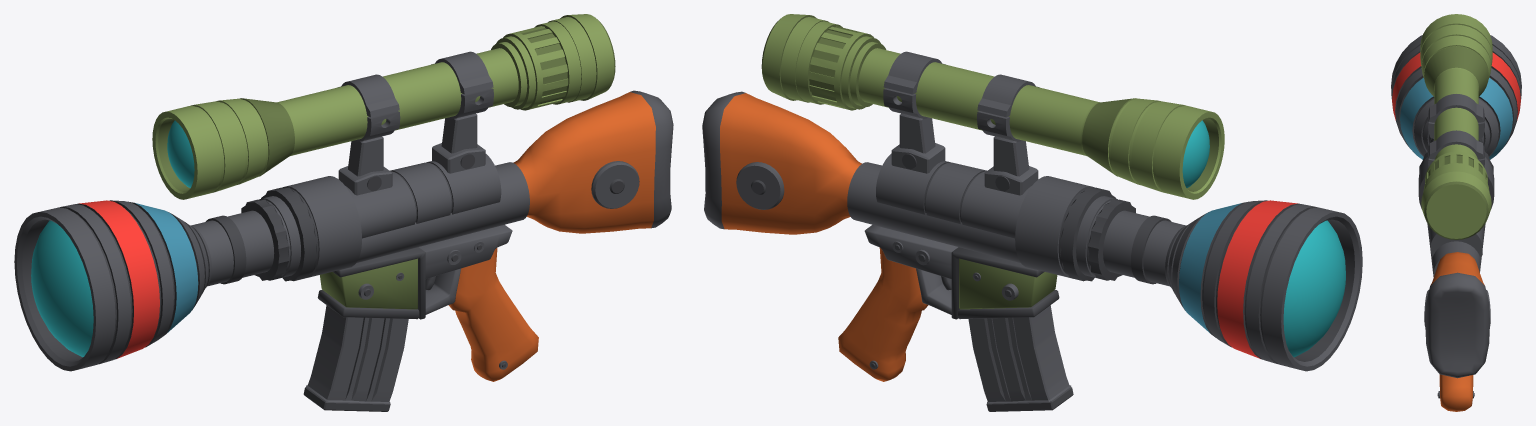
Rendered from ShrinkRayGun.fbx.
The picture shows the model from 3 angles, left to right: view 1: azimuth 30°, elevation 25°; view 2: azimuth 150°, elevation 25°; view 3: azimuth 270°, elevation 25°; orthographic projection. The views are drawn at different scales.
Visible parts, largest first — view 1: part 7, part 1, part 6, part 4, part 5, part 9, part 2, part 8, part 3; view 2: part 7, part 1, part 6, part 4, part 5, part 9, part 2, part 8, part 3; view 3: part 1, part 6, part 7, part 5, part 4, part 3.
Boxes of the visible parts, x1,y1,x2,y2 form: part 7: (14,176,361,371); part 1: (152,14,615,199); part 6: (448,90,673,381); part 4: (345,154,529,263); part 5: (338,51,493,195); part 9: (303,305,408,411); part 2: (317,247,425,319); part 8: (419,224,512,316); part 3: (358,153,639,369); part 7: (1015,176,1362,371); part 1: (761,14,1224,199); part 6: (702,91,928,381); part 4: (847,153,1031,262); part 5: (883,51,1039,195); part 9: (968,305,1073,411); part 2: (951,247,1059,319); part 8: (864,224,958,317); part 3: (736,153,1018,369); part 1: (1420,14,1492,239); part 6: (1425,252,1489,411); part 7: (1391,35,1521,208); part 5: (1428,94,1484,167); part 4: (1427,223,1485,277); part 3: (1424,251,1490,398).
Size of the model in its own units: 402 by 212 by 92.17.
